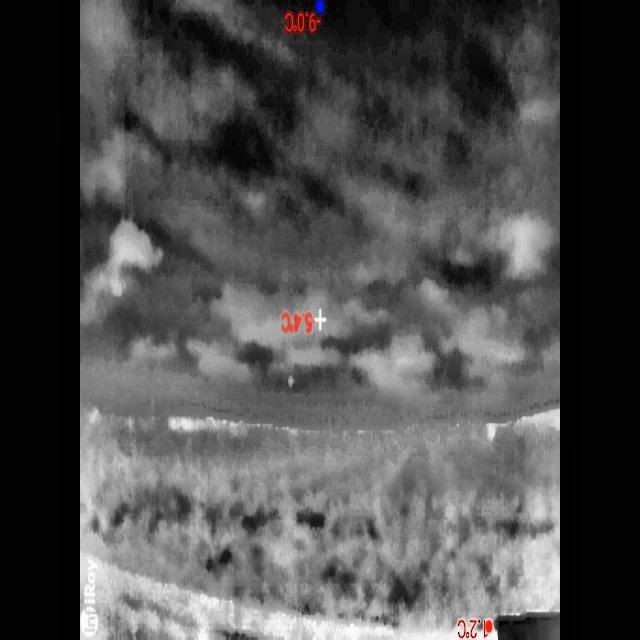drone: (288, 375, 296, 389)
